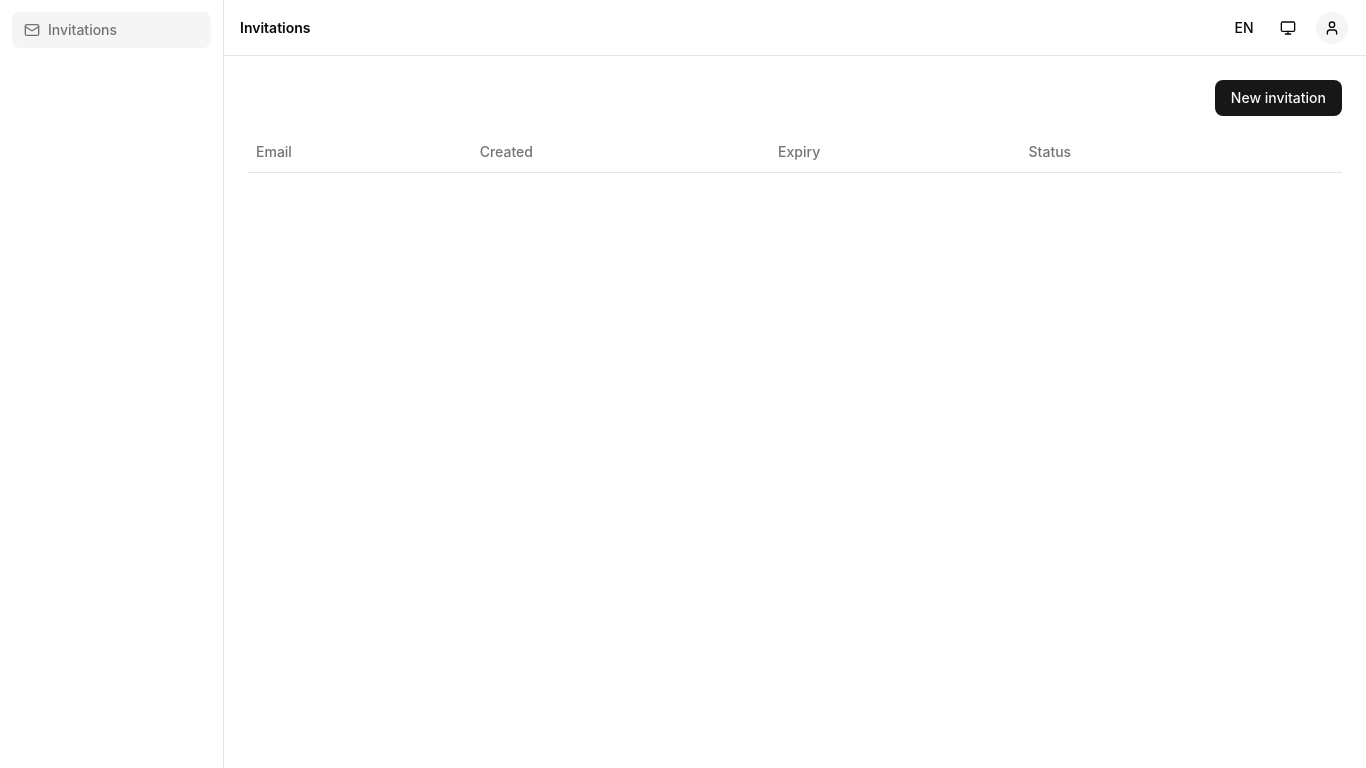
Test: /invitations › creates an invitation and shows the token once
The image size is (1366, 768).
Click the button "New invitation". click: click(1278, 98)
box: [1215,80,1342,116]
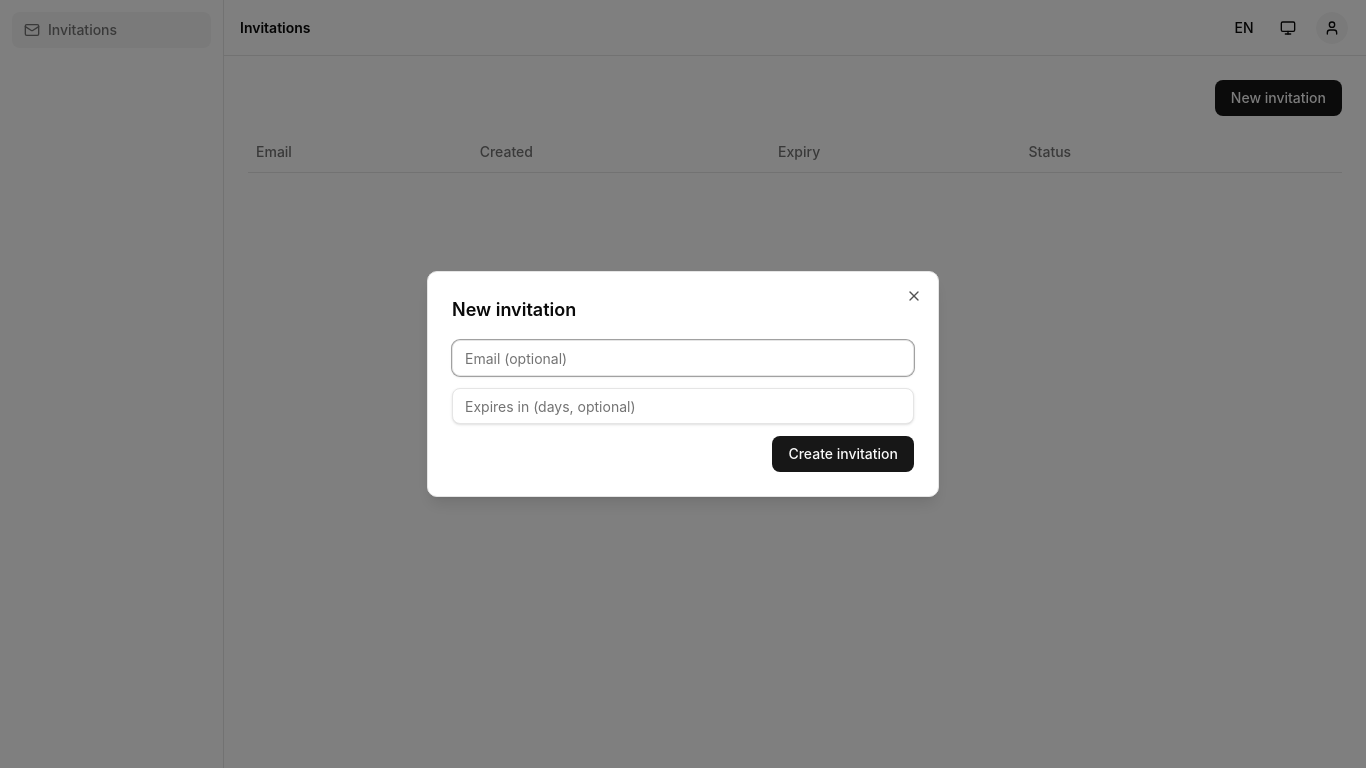
Click the button "Create invitation". click: click(843, 454)
box: [772,436,914,472]
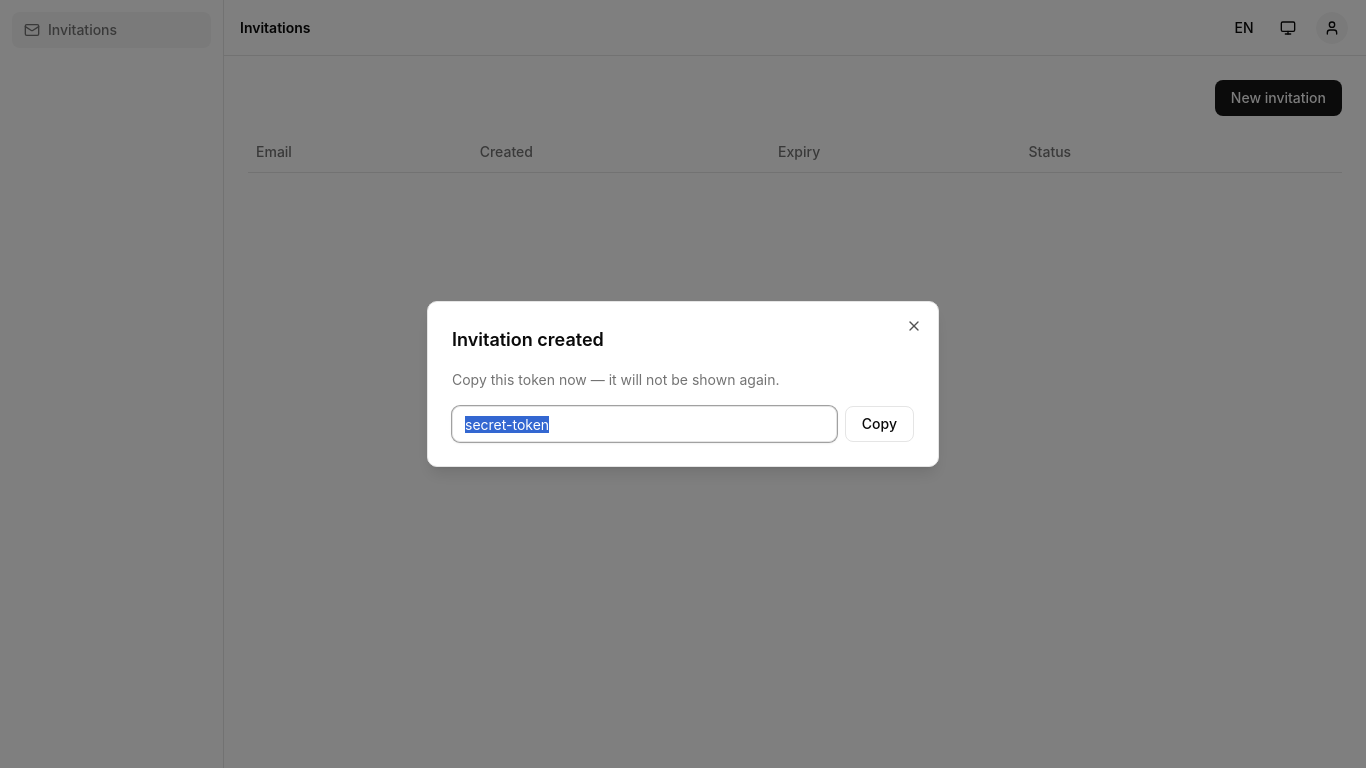
Now the field showing "secret-token" is shown, box [452,406,837,442]
